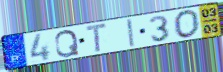3: (149, 15, 172, 43)
4: (28, 33, 53, 63)
I: (125, 17, 136, 48)
O: (172, 8, 201, 40)
Q: (54, 29, 81, 59)
T: (85, 22, 109, 54)
